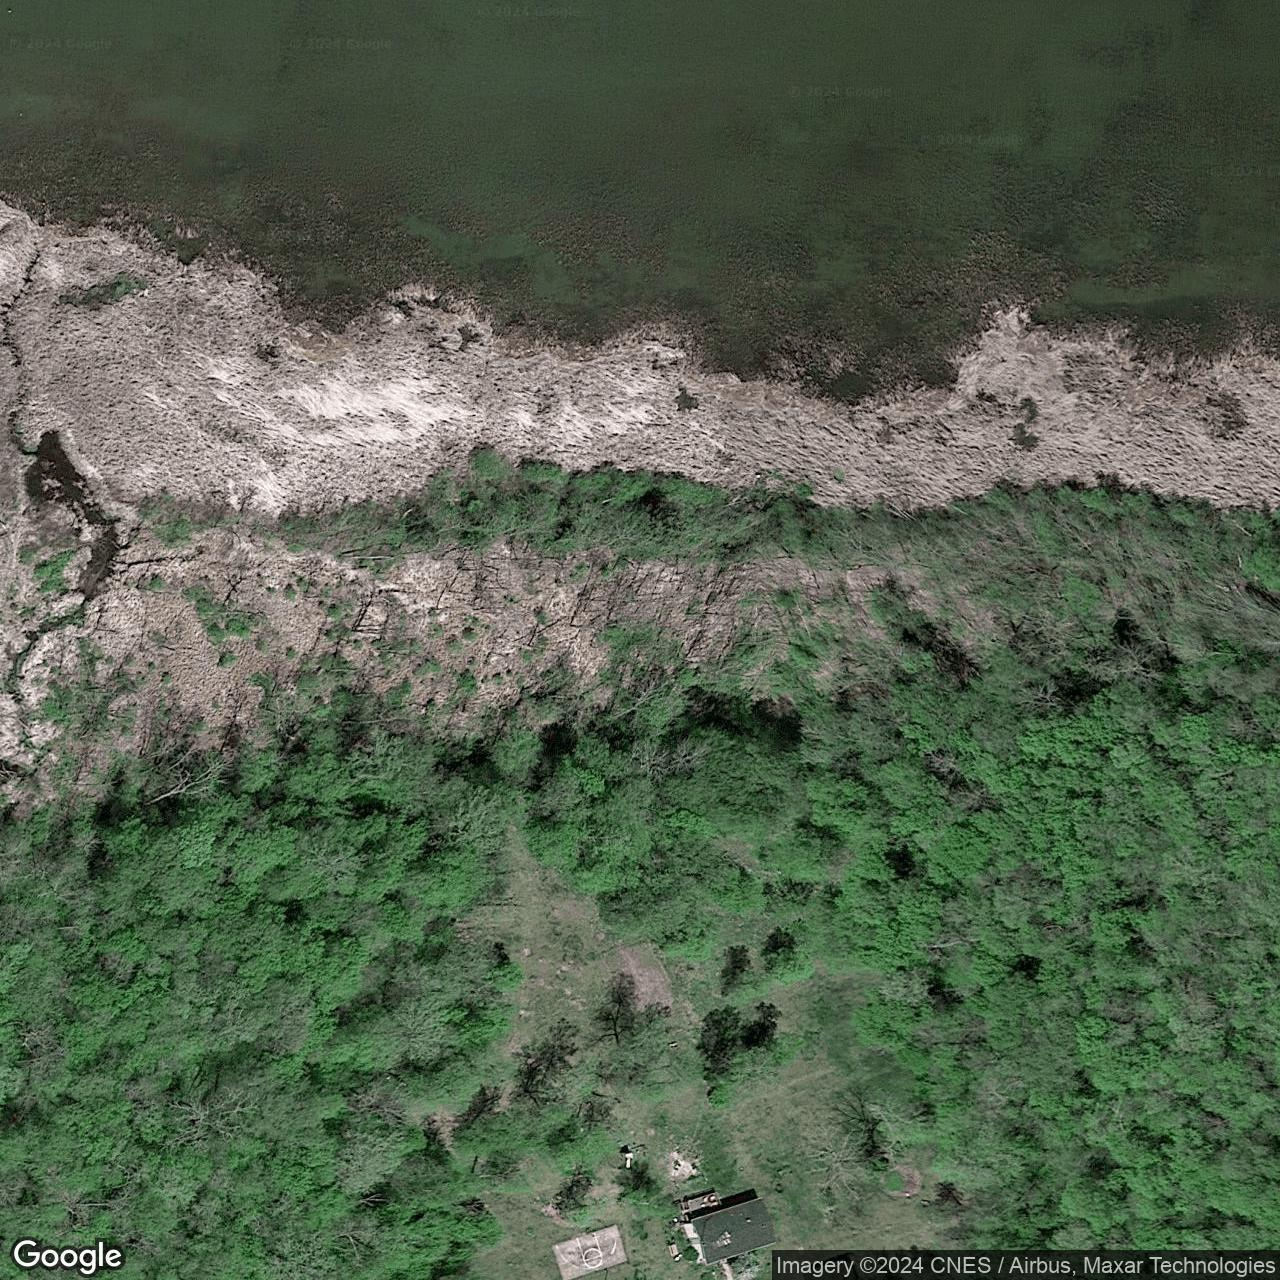House: (679, 1196, 777, 1267)
